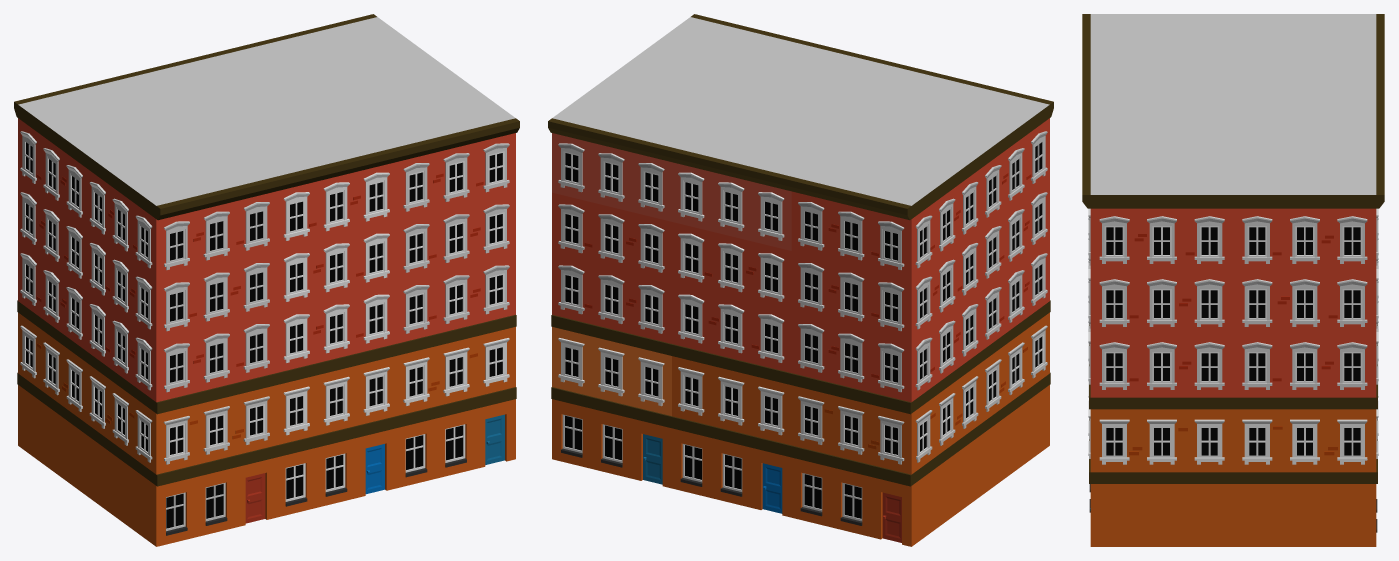
File: Classical-03.fbx
3 renders of one model, left to right at view 1: azimuth 30°, elevation 25°; view 2: azimuth 150°, elevation 25°; view 3: azimuth 270°, elevation 25°, orthographic. The views are drawn at different scales.
Parts seen in each view (by area): view 1: Building; view 2: Building; view 3: Building.
Part boxes in pixels (x1,y1,x2,y2): Building: (14, 14, 519, 546); Building: (548, 14, 1053, 546); Building: (1082, 14, 1384, 546).
Size of what is drawn, in the model's own units: 18.2 by 16.32 by 12.7.
